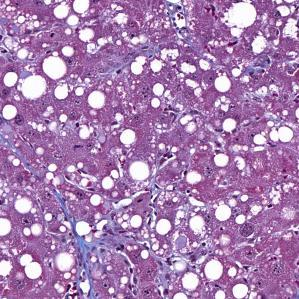fibrosis: (73, 223, 135, 260)
